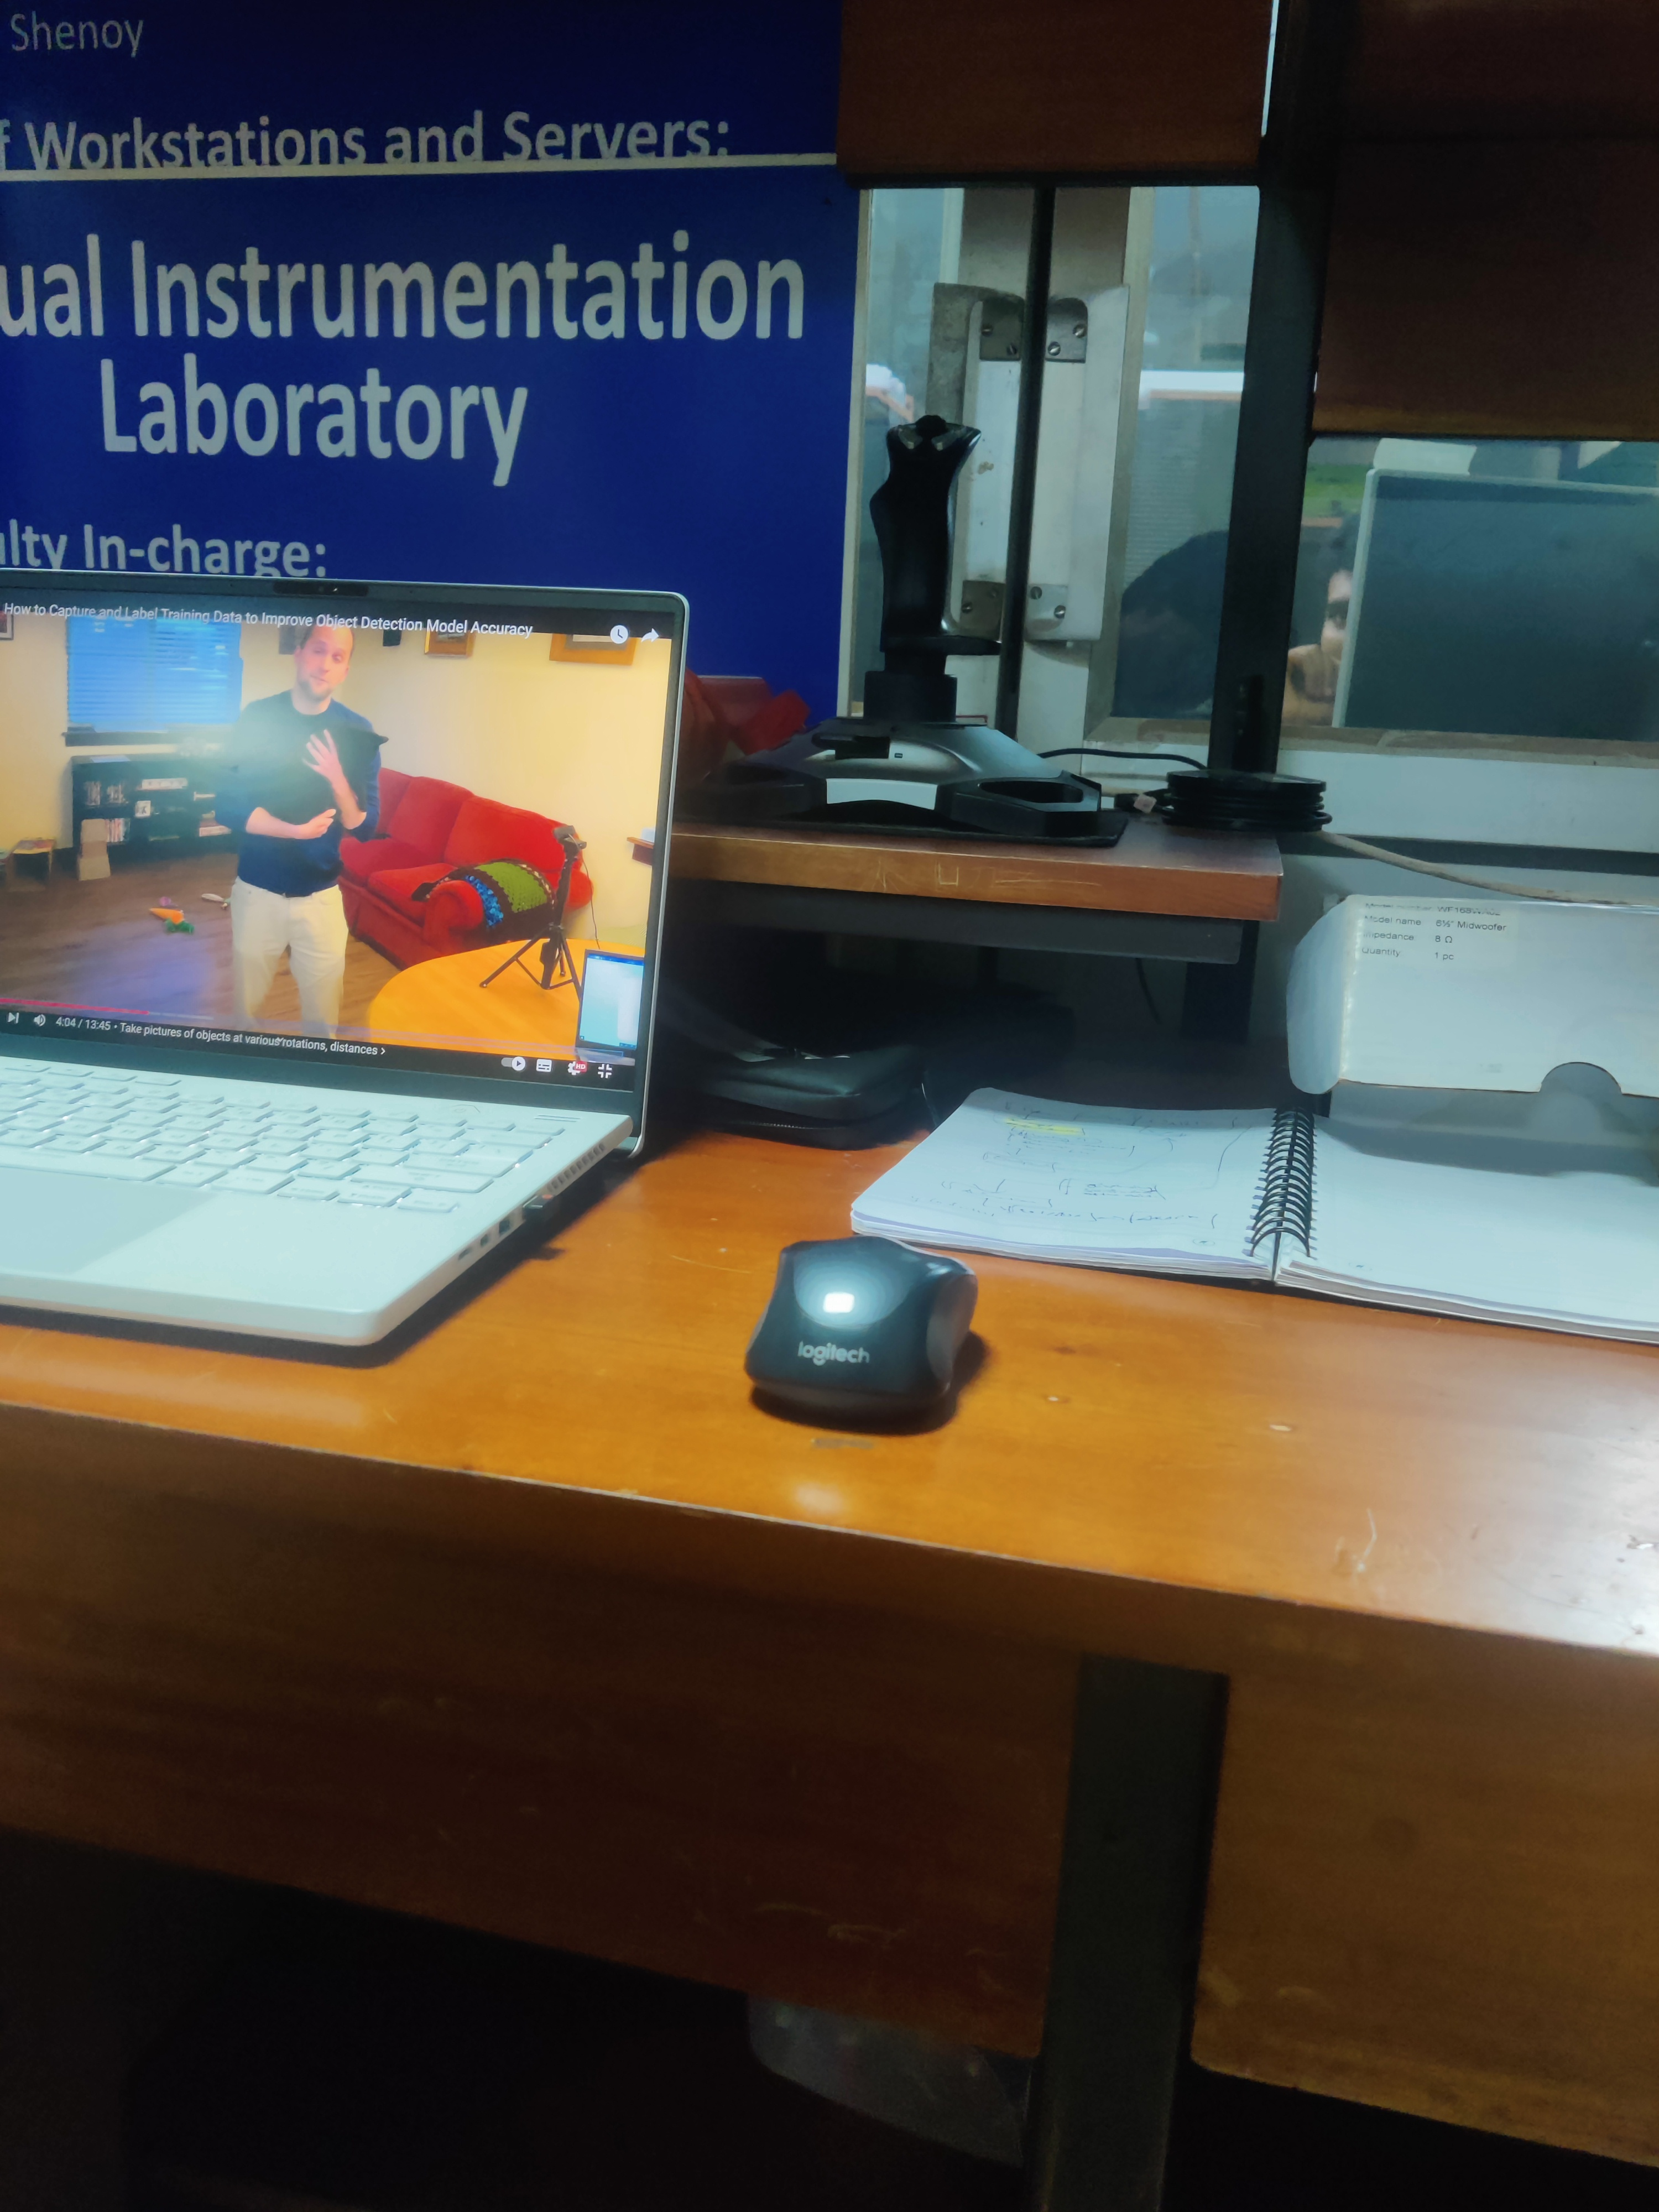logitechMouse: (739, 1228, 986, 1439)
